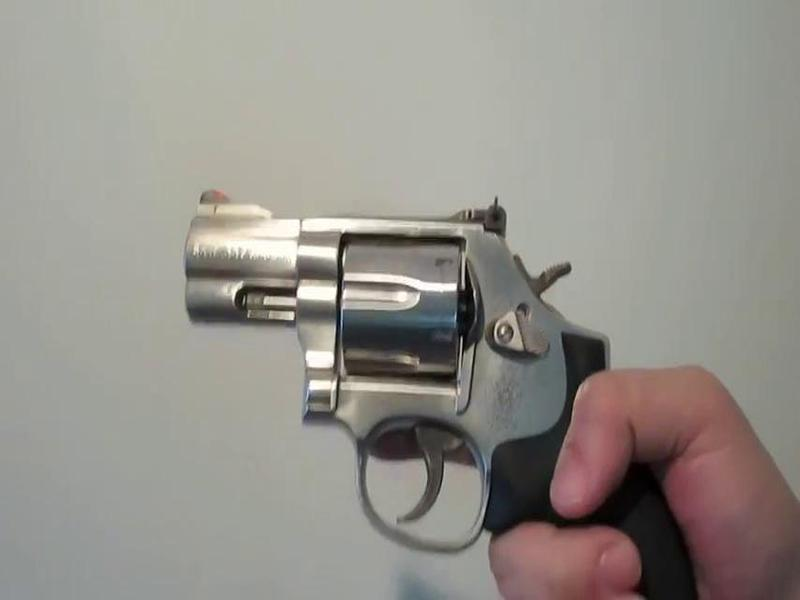Revolver: (172, 180, 687, 558)
